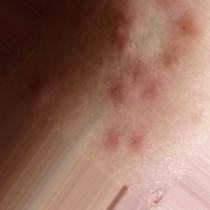Fleas: (105, 12, 140, 55), (104, 124, 149, 157), (138, 74, 168, 107), (24, 85, 58, 111), (155, 49, 183, 80), (106, 79, 131, 112), (175, 11, 203, 38)
